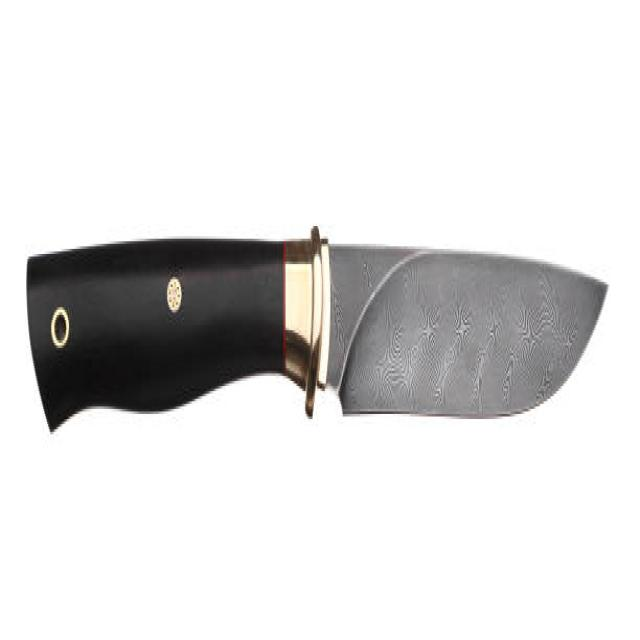knife: (25, 217, 615, 461)
